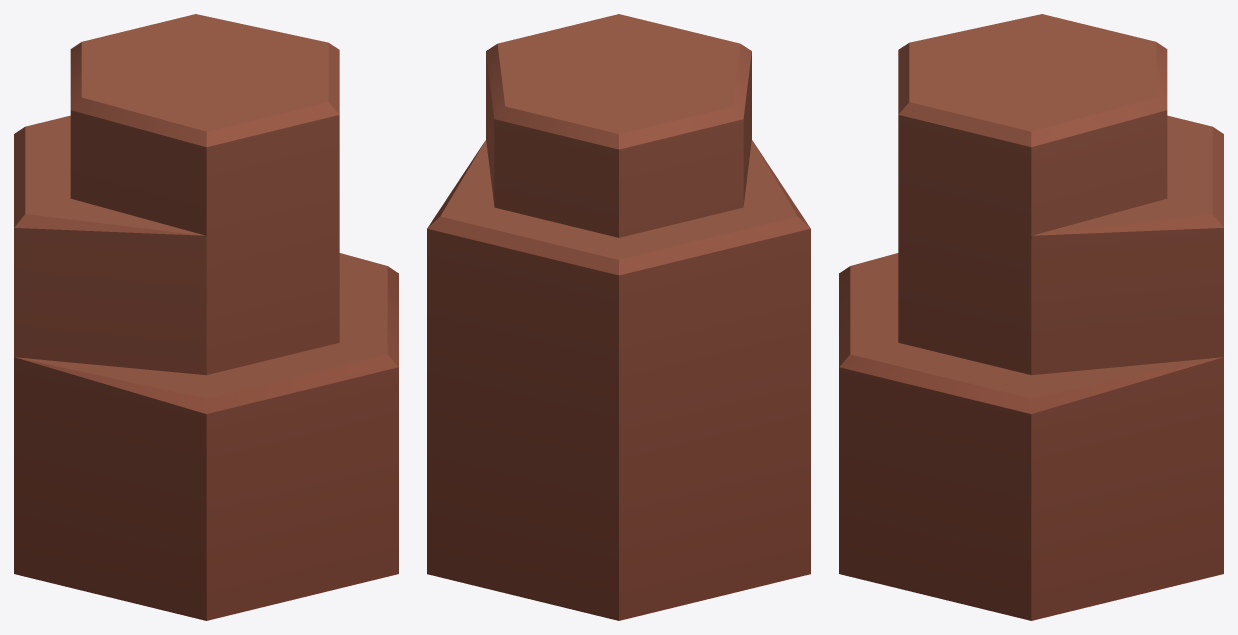
Rendered from Rock_1_F_Color2.fbx.
3 views of the same model, side by side, from view 1: azimuth 30°, elevation 25°; view 2: azimuth 150°, elevation 25°; view 3: azimuth 270°, elevation 25° (orthographic).
Parts seen in each view (by area): view 1: Rock_1_F_Color2; view 2: Rock_1_F_Color2; view 3: Rock_1_F_Color2.
Boxes of the visible parts, <box> form: Rock_1_F_Color2: <box>14,14,398,620</box>; Rock_1_F_Color2: <box>427,14,810,620</box>; Rock_1_F_Color2: <box>839,14,1223,620</box>.
Bounding box in the file's own units: 1 × 1.13 × 0.866.
